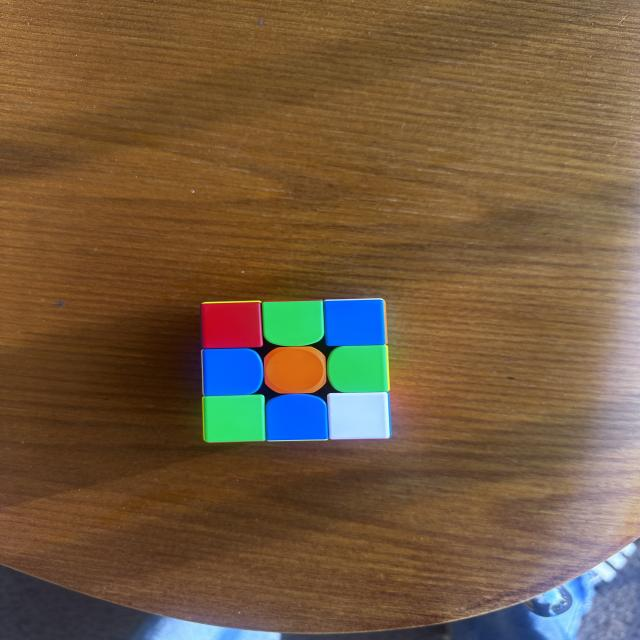sticker: (198, 300, 266, 351), (321, 298, 388, 348), (201, 348, 266, 398), (326, 391, 391, 441), (263, 393, 329, 442), (202, 394, 266, 444), (263, 346, 328, 395), (260, 300, 325, 348), (326, 346, 388, 394)
